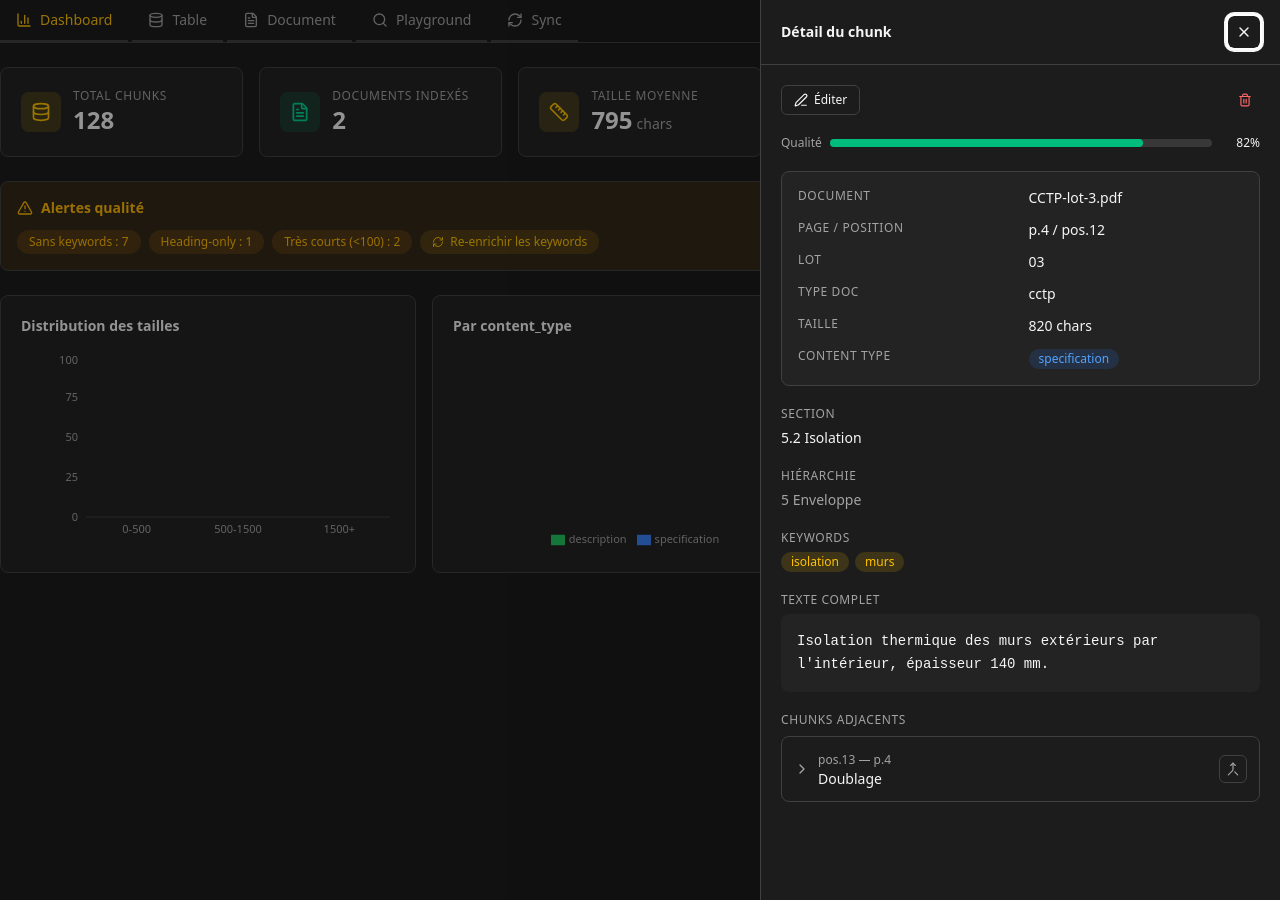
Scenario: AdminDashboard — the side panel belongs to the chunk it shows › reports a merge that failed after the panel was closed
This screenshot has width=1280, height=900.
Click the button named "Fusionner": (1233, 768) [1219, 754, 1247, 782]
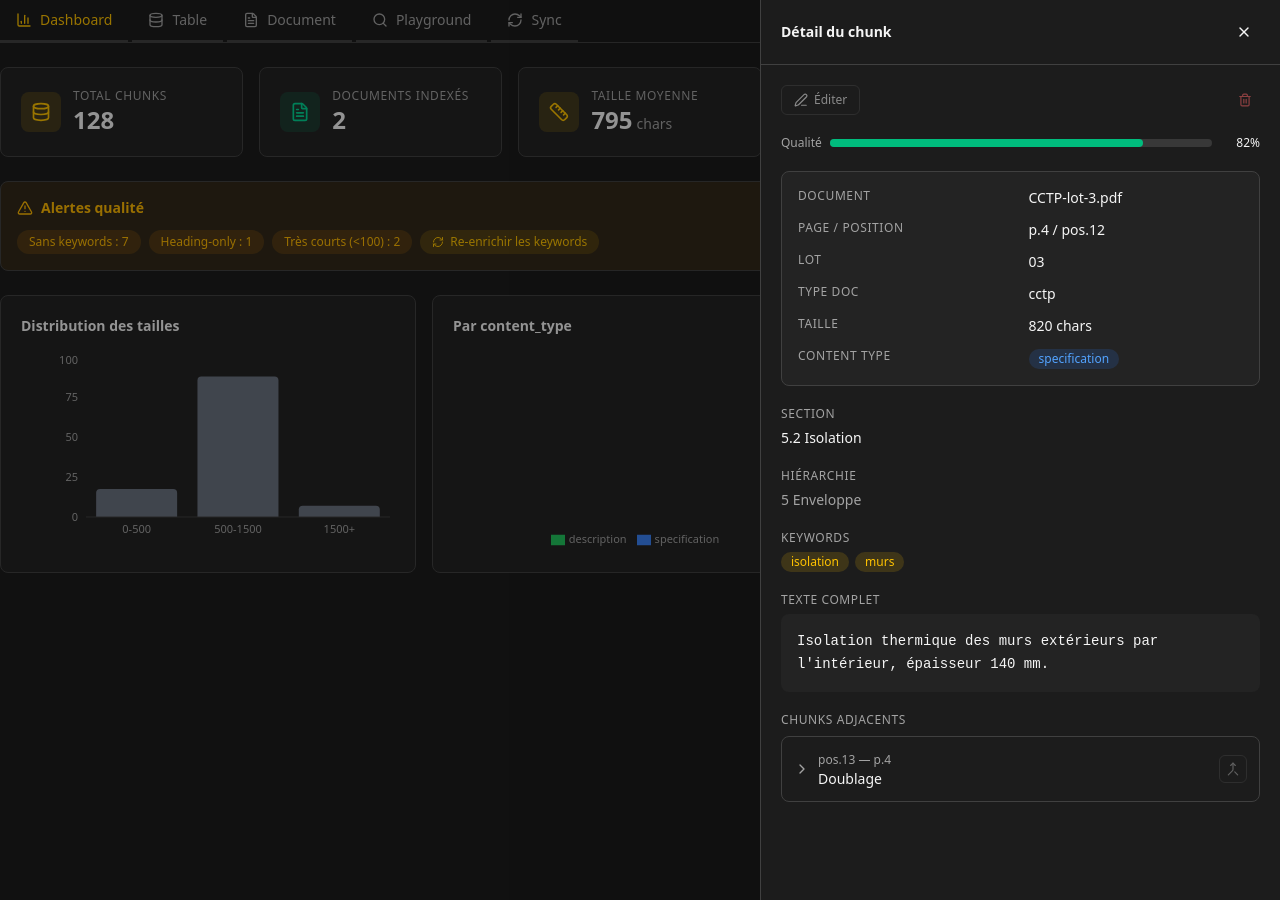
Press Escape
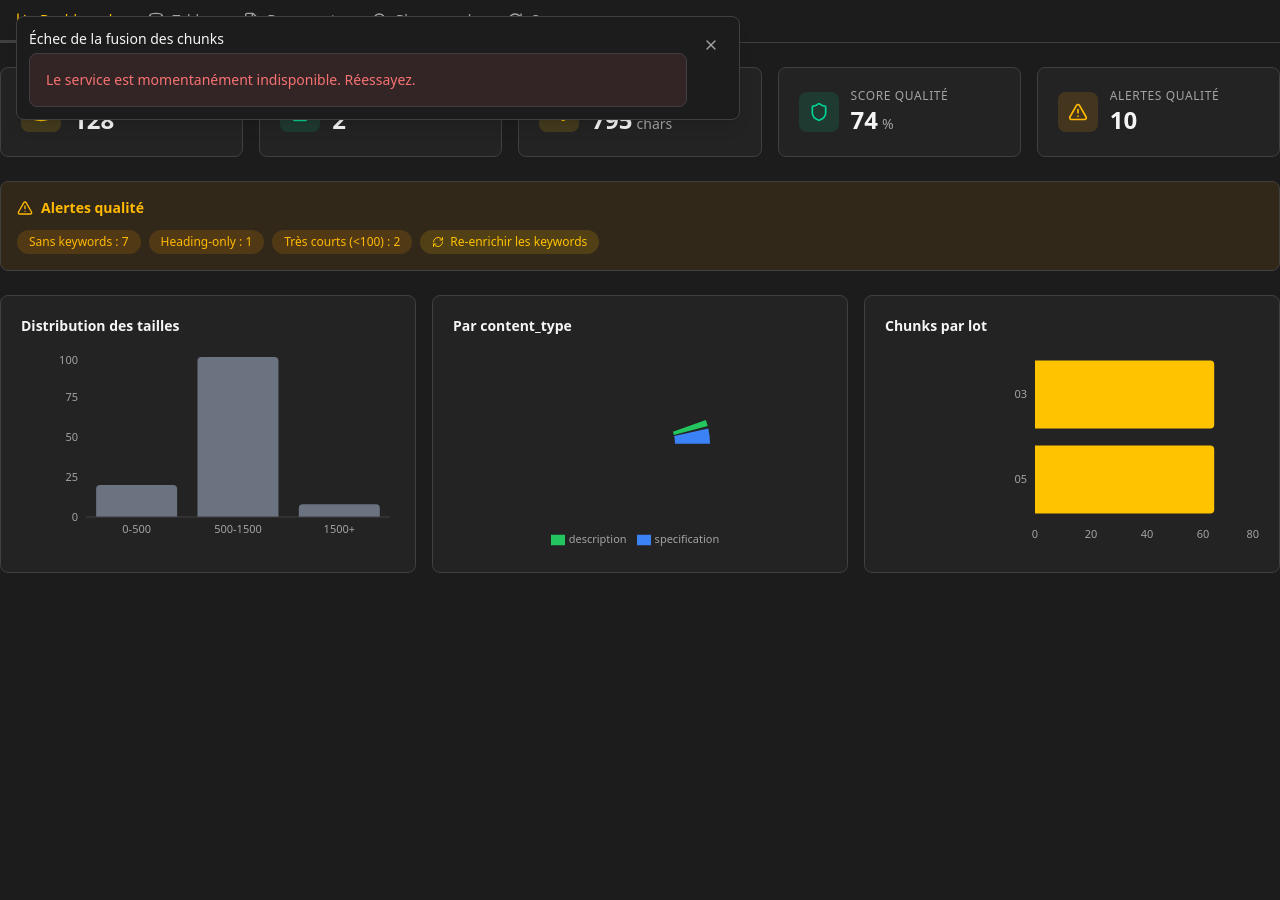
Result: the message reads "Le service est momentanément indisponible. Réessayez." at [46, 70, 416, 89]
